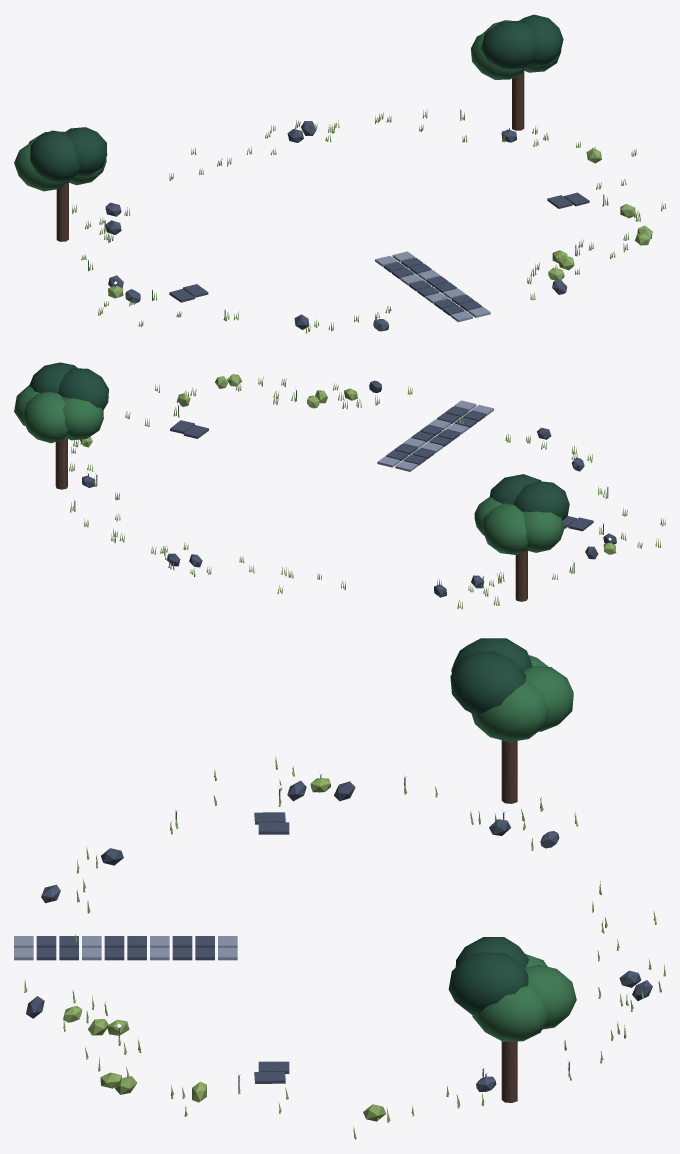
Rendered from island-landscaping.glb.
3 views of the same model, one above another, from view 1: azimuth 30°, elevation 25°; view 2: azimuth 150°, elevation 25°; view 3: azimuth 270°, elevation 25° (orthographic). The views are drawn at different scales.
Parts seen in each view (by area): view 1: WorkshopLandscaping_leafDark, WorkshopLandscaping_stone, WorkshopLandscaping_moss, WorkshopLandscaping_leaf, WorkshopLandscaping_wood, WorkshopLandscaping_edge; view 2: WorkshopLandscaping_leaf, WorkshopLandscaping_leafDark, WorkshopLandscaping_stone, WorkshopLandscaping_moss, WorkshopLandscaping_edge, WorkshopLandscaping_wood; view 3: WorkshopLandscaping_leaf, WorkshopLandscaping_leafDark, WorkshopLandscaping_stone, WorkshopLandscaping_moss, WorkshopLandscaping_wood, WorkshopLandscaping_edge.
Part boxes in pixels (x1=…): WorkshopLandscaping_leafDark: x1=30, y1=14, x2=563, y2=182; WorkshopLandscaping_stone: x1=105, y1=121, x2=589, y2=331; WorkshopLandscaping_moss: x1=72, y1=109, x2=665, y2=333; WorkshopLandscaping_leaf: x1=14, y1=20, x2=604, y2=320; WorkshopLandscaping_wood: x1=56, y1=71, x2=524, y2=241; WorkshopLandscaping_edge: x1=375, y1=251, x2=490, y2=322; WorkshopLandscaping_leaf: x1=14, y1=385, x2=610, y2=587; WorkshopLandscaping_leafDark: x1=29, y1=362, x2=569, y2=520; WorkshopLandscaping_stone: x1=82, y1=380, x2=616, y2=597; WorkshopLandscaping_moss: x1=69, y1=374, x2=665, y2=609; WorkshopLandscaping_edge: x1=377, y1=400, x2=493, y2=471; WorkshopLandscaping_wood: x1=55, y1=438, x2=527, y2=601; WorkshopLandscaping_leaf: x1=118, y1=655, x2=576, y2=1086; WorkshopLandscaping_leafDark: x1=448, y1=638, x2=532, y2=1014; WorkshopLandscaping_stone: x1=26, y1=780, x2=652, y2=1091; WorkshopLandscaping_moss: x1=24, y1=757, x2=665, y2=1139; WorkshopLandscaping_wood: x1=501, y1=740, x2=517, y2=1102; WorkshopLandscaping_edge: x1=14, y1=936, x2=237, y2=960.
Size of the model in its own units: 18.7 by 3.69 by 13.82.
7 materials, 2 textured.
